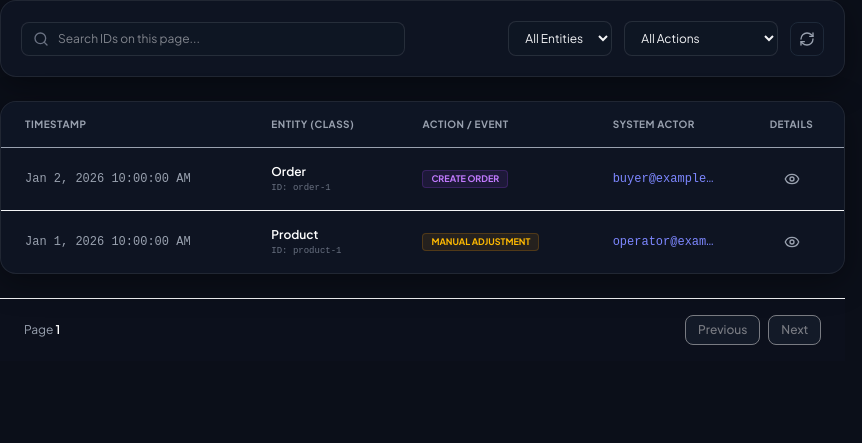
audit history › sorts newest first and combines actor, entity and action filters
The width and height of the screenshot is (862, 443).
Expected: the text "ID: product-1" is shown, [271, 246, 342, 256]
Expected: the row that starts with "Jan 2, 2026 10:00:00 AM" shows "ID: order-1", [1, 148, 844, 211]
Select "Products" in the 1st dropdown at (560, 38), box [508, 21, 612, 56]
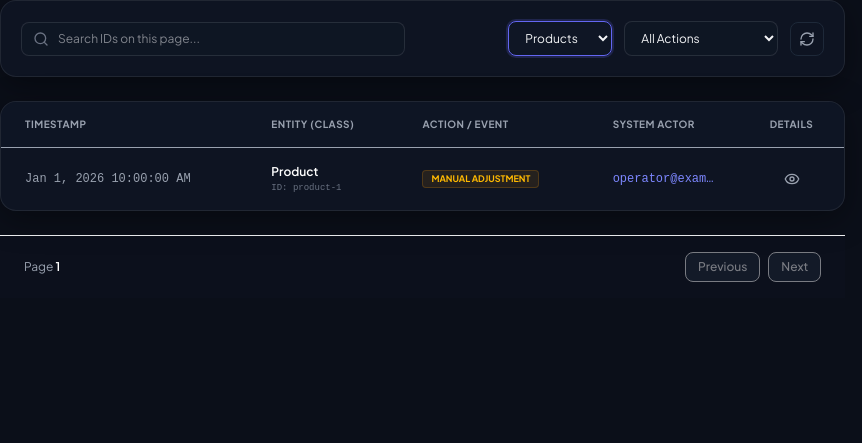
Select "Stock Adjustments" in the 2nd dropdown at (701, 38), box [624, 21, 778, 56]
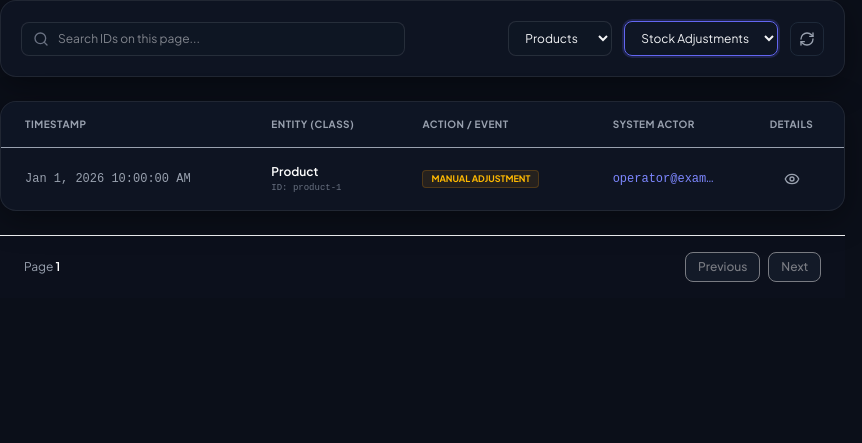
Type "OPERATOR" into the field with placeholder "Search IDs on this page..." at (213, 38), box [21, 22, 405, 56]
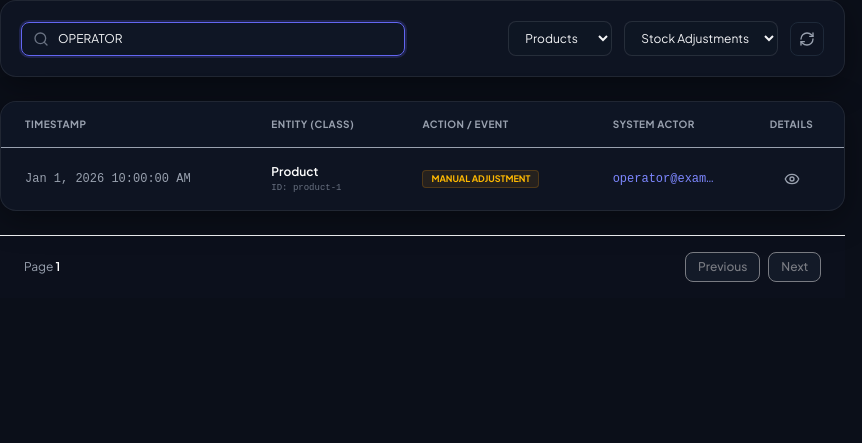
Expected: the row "ID: product-1" is shown, [1, 148, 844, 210]
Expected: the text "ID: order-1" is not shown
Select "Create Order" in the 2nd dropdown at (701, 38), box [624, 21, 778, 56]
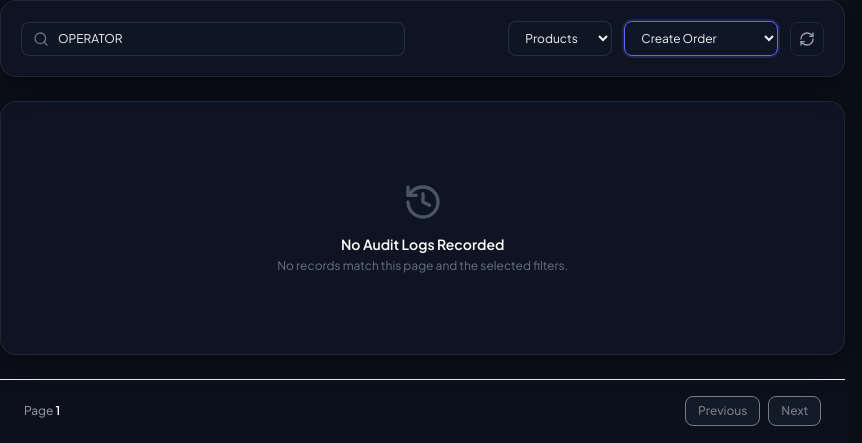
Now the heading "No Audit Logs Recorded" is shown, box [341, 235, 504, 253]
